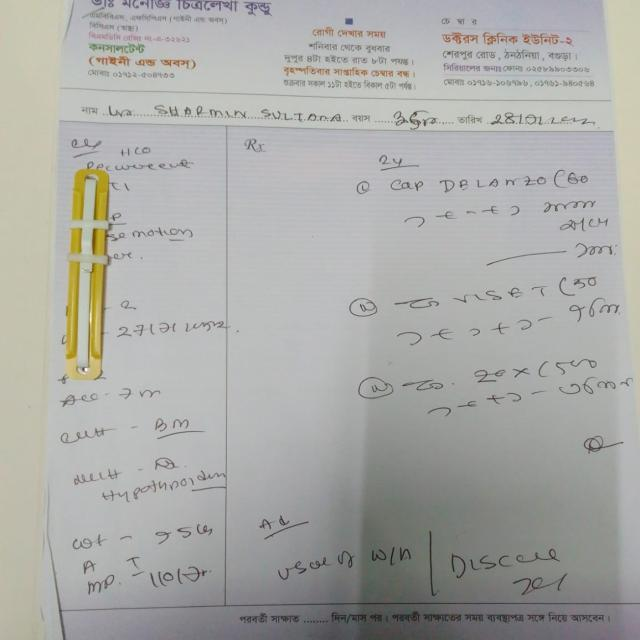Delanzo: (435, 167, 555, 195)
Viset: (452, 284, 557, 308)
Zox: (465, 366, 537, 388)
